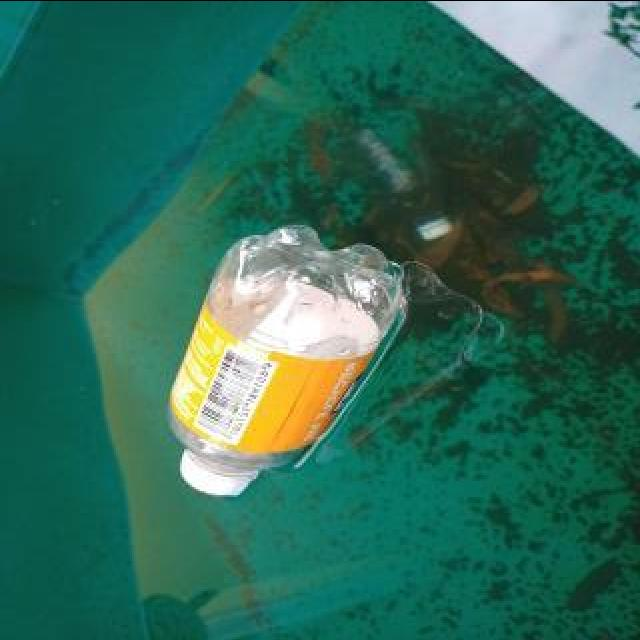Bottle: (154, 219, 412, 506)
